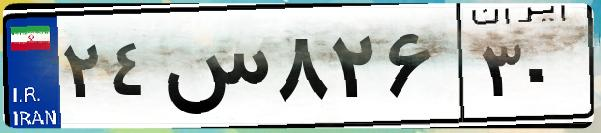0: (525, 38, 570, 115)
2: (330, 28, 385, 110), (57, 26, 110, 100)
3: (475, 38, 525, 113)
4: (110, 28, 158, 98)
6: (385, 28, 445, 110)
8: (270, 28, 330, 110)
س: (158, 20, 270, 120)
